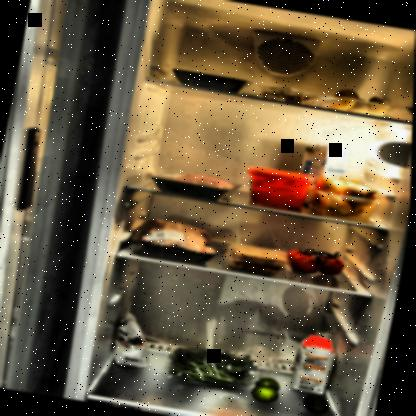butter: (243, 163, 317, 211)
chicken: (131, 214, 220, 260)
green_beans: (167, 338, 266, 394)
ground_beef: (148, 164, 236, 198)
lime: (253, 375, 284, 404), (303, 392, 335, 415)
milk: (294, 140, 349, 211)
onion: (308, 172, 382, 221)
potato: (322, 86, 391, 120)
shrimp: (268, 86, 335, 110)
tomato: (285, 242, 350, 280)
